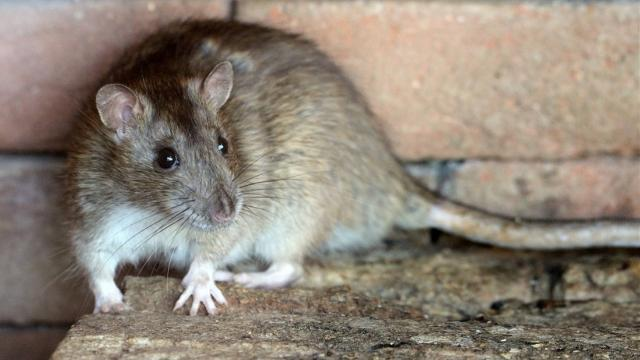rat: (51, 16, 522, 322)
